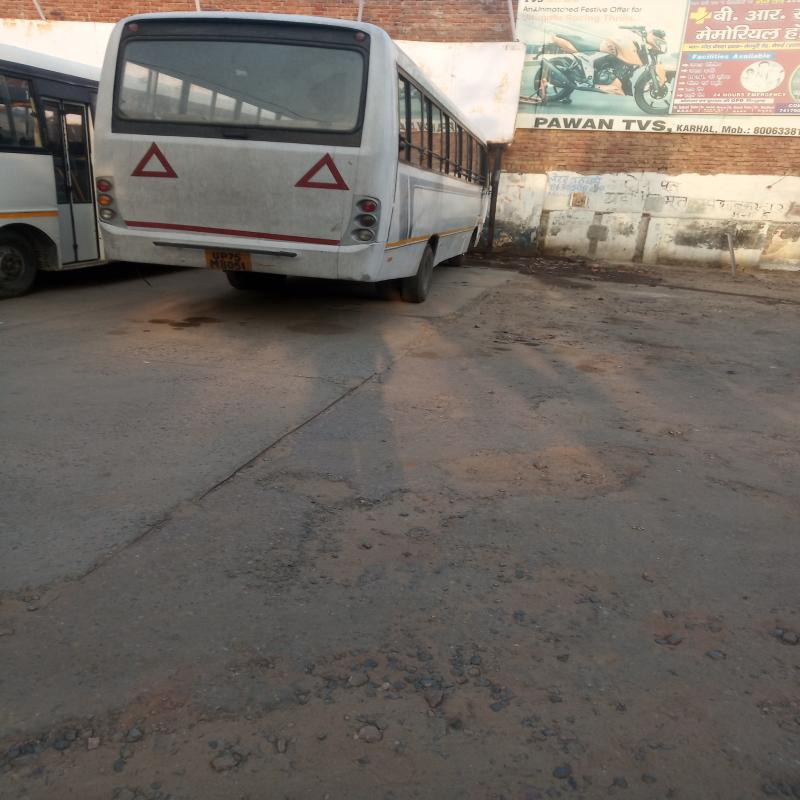bus: (104, 7, 490, 289)
